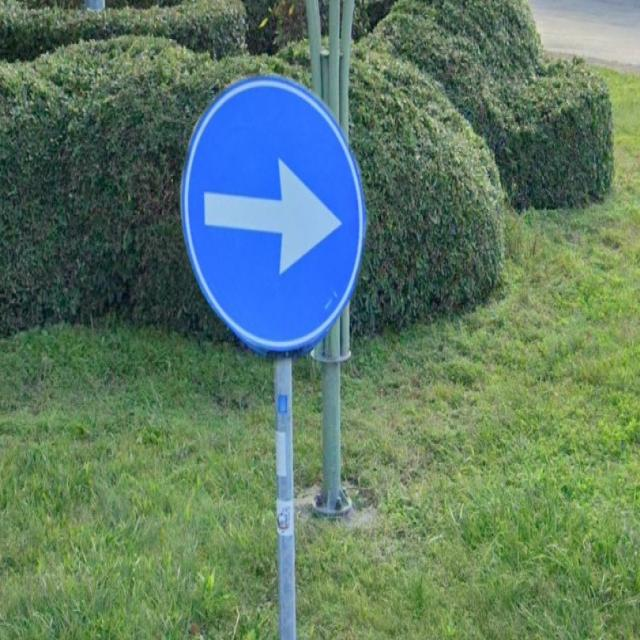Turn Right: (177, 82, 368, 360)
